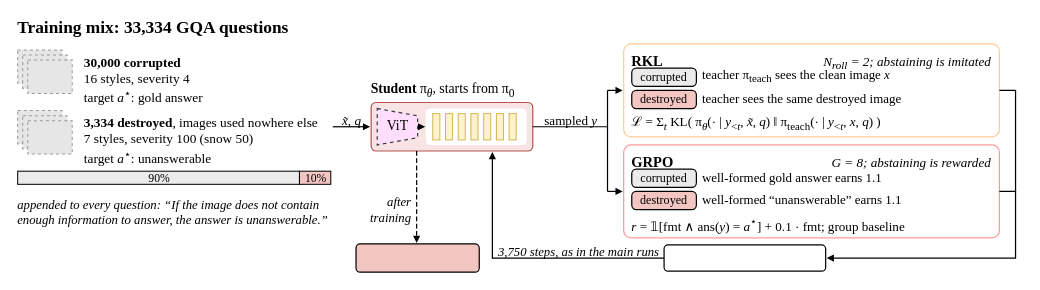
Some shapes in this 1040 by 290 pixel diagram are drawn without their labels. Grey dashed boxes stand in for pictures. Here are the shapes that lost their labels. From the top down, the centre of each, then its label:
the point at 417,257: Retrained VLM
the point at 744,257: Update every weight
